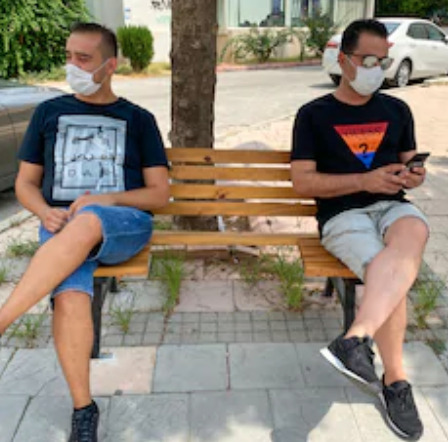Caution: (14, 17, 429, 307)
